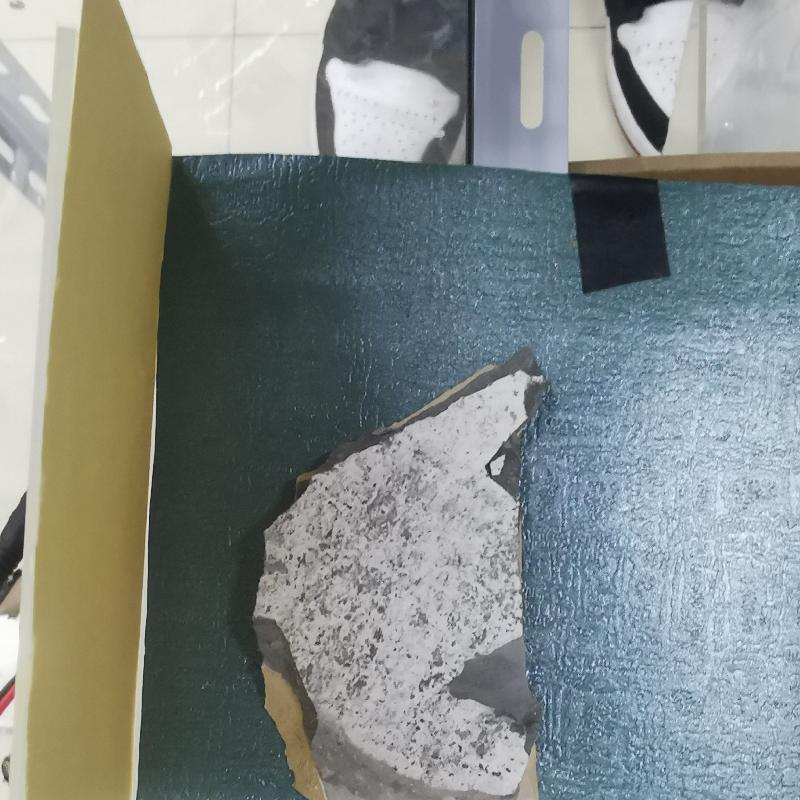tile: (243, 347, 592, 800)
